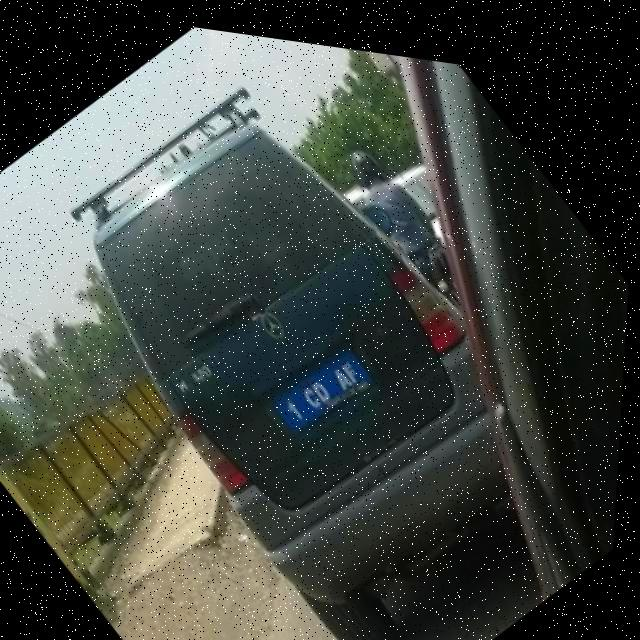license_plate: (272, 324, 378, 435)
